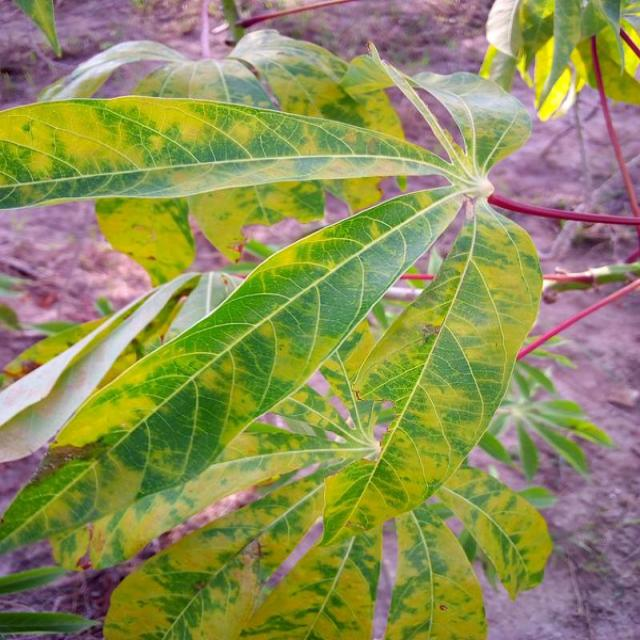cassava leaf: (1, 30, 550, 637)
